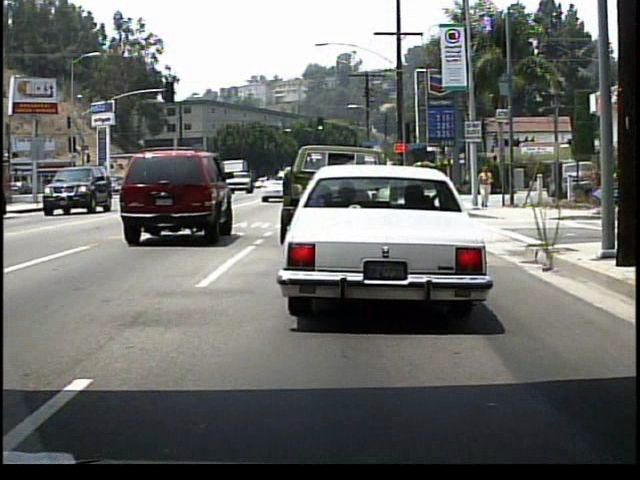person: (479, 167, 494, 210)
